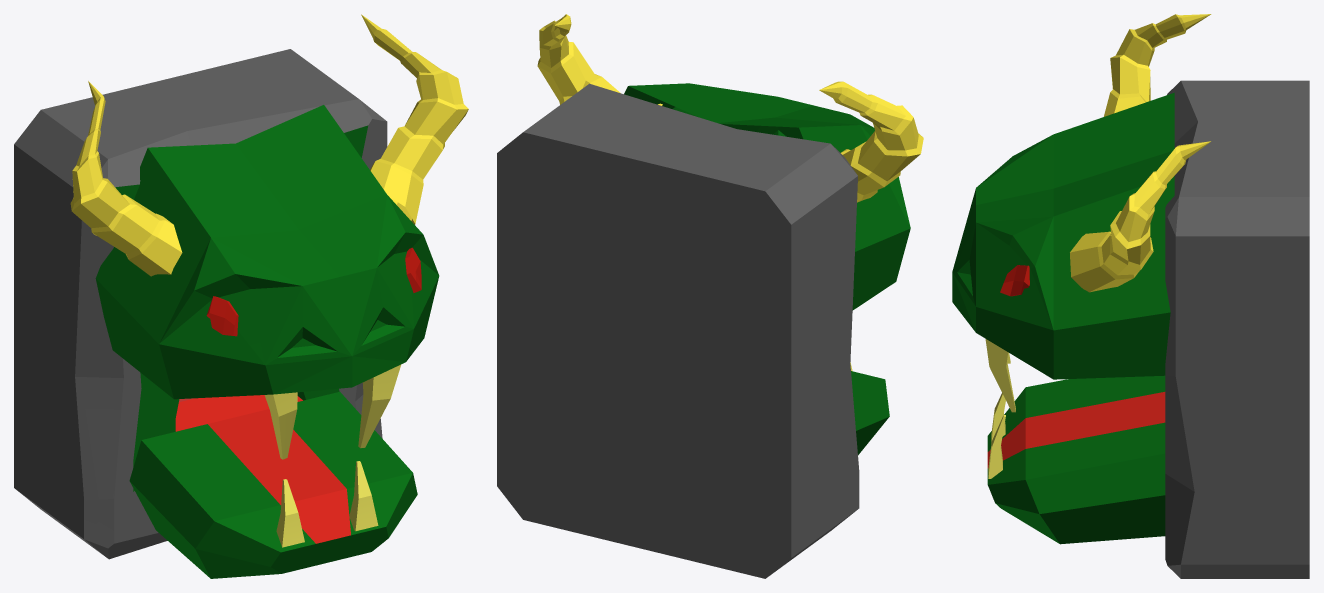
The model's file is obstacle poisonthrower.fbx.
3 views of the same model, side by side, from view 1: azimuth 30°, elevation 25°; view 2: azimuth 150°, elevation 25°; view 3: azimuth 270°, elevation 25° (orthographic). The views are drawn at different scales.
Parts seen in each view (by area): view 1: flame thrower.001; view 2: flame thrower.001; view 3: flame thrower.001.
Boxes of the visible parts, bbox=[...] form: flame thrower.001: bbox=[14, 14, 468, 578]; flame thrower.001: bbox=[497, 14, 923, 578]; flame thrower.001: bbox=[952, 14, 1309, 578].
Bounding box in the file's own units: 169 × 192 × 139.
